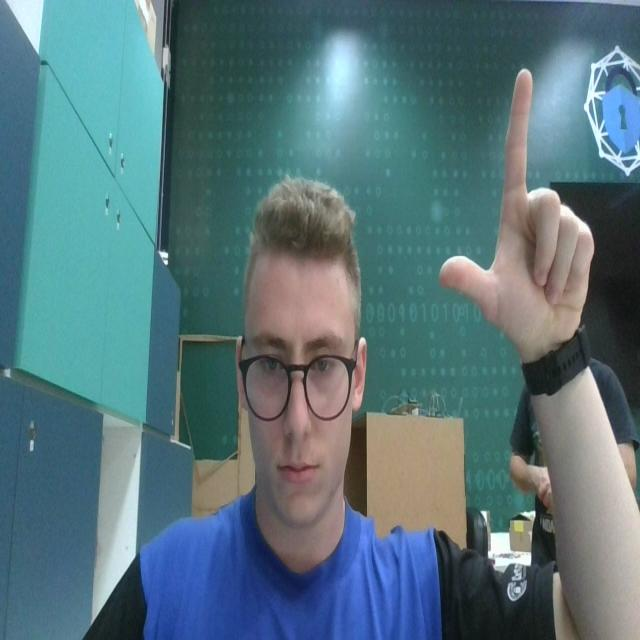L: (431, 61, 597, 340)
